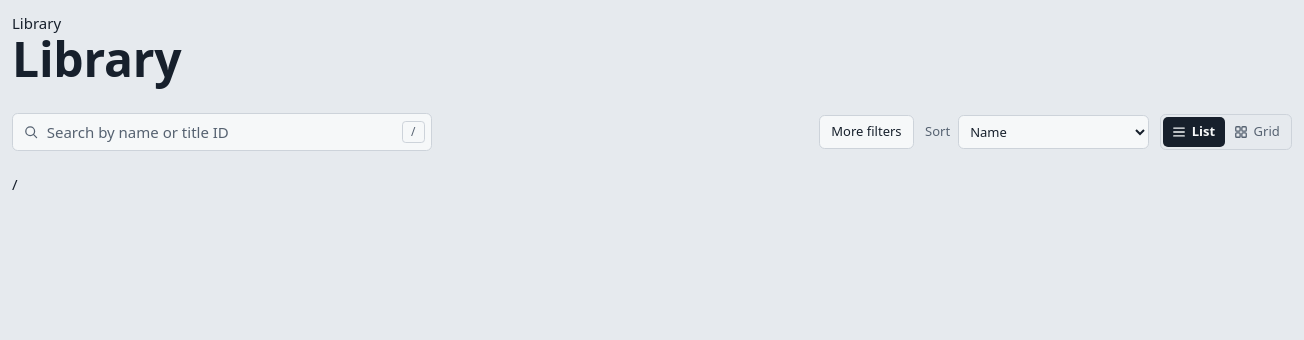
Test: LibraryPage search › writes the search to the URL after a pause
Step 1. Type "zelda" into the search field → (222, 132), box [12, 113, 432, 150]
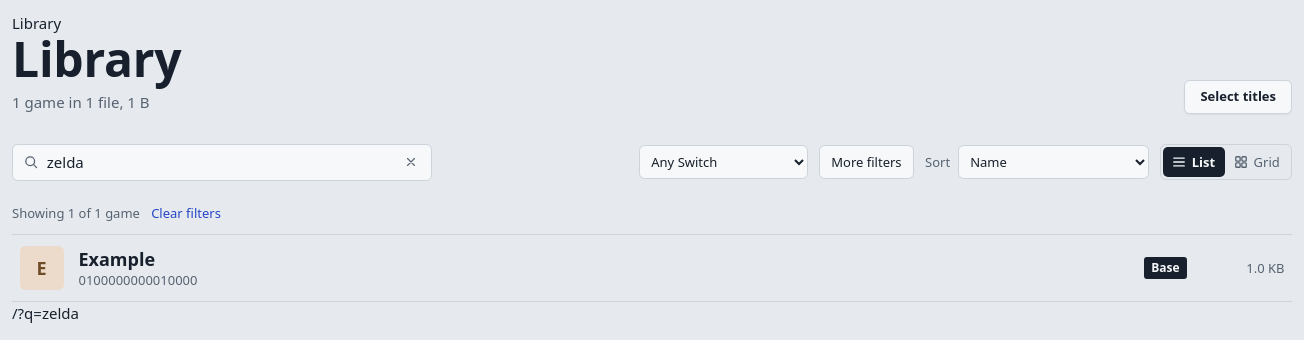
expect the text with test id "location" reads "/?q=zelda": met, box [12, 303, 79, 323]
